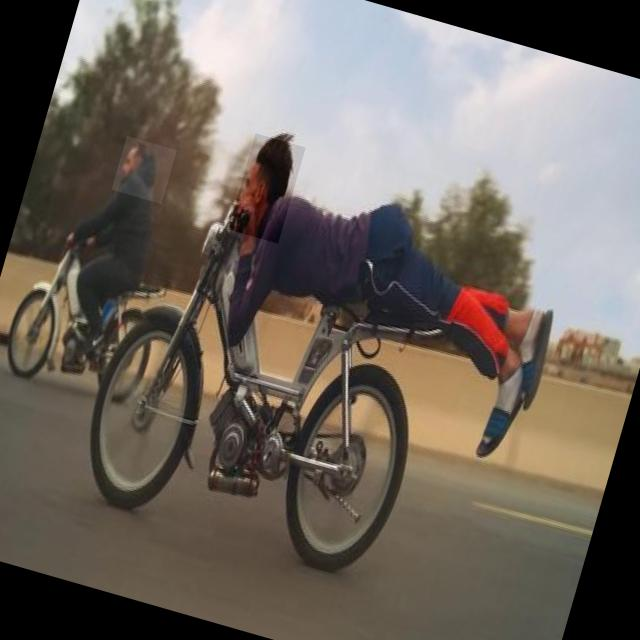without helmet: (228, 132, 306, 244), (111, 136, 176, 203)
